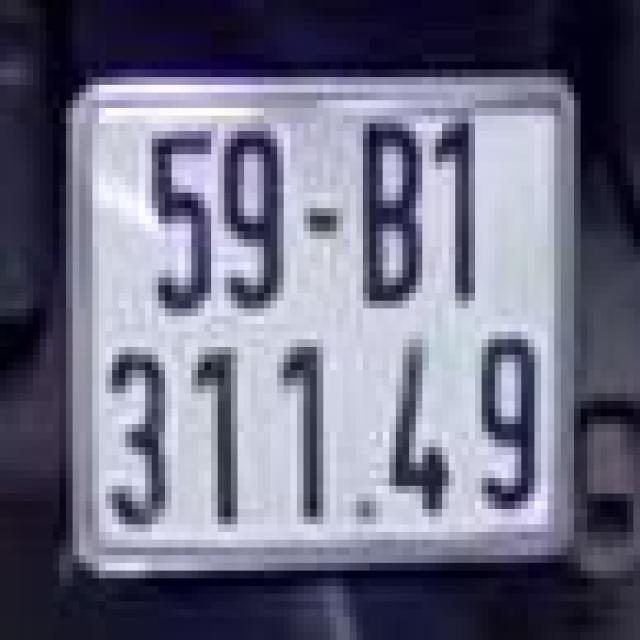1: (426, 96, 492, 320), (270, 332, 336, 532), (188, 335, 247, 536)
3: (92, 339, 178, 540)
4: (366, 332, 465, 524)
5: (145, 116, 218, 324)
9: (462, 312, 548, 520), (218, 112, 290, 328)
B: (343, 104, 429, 328)
